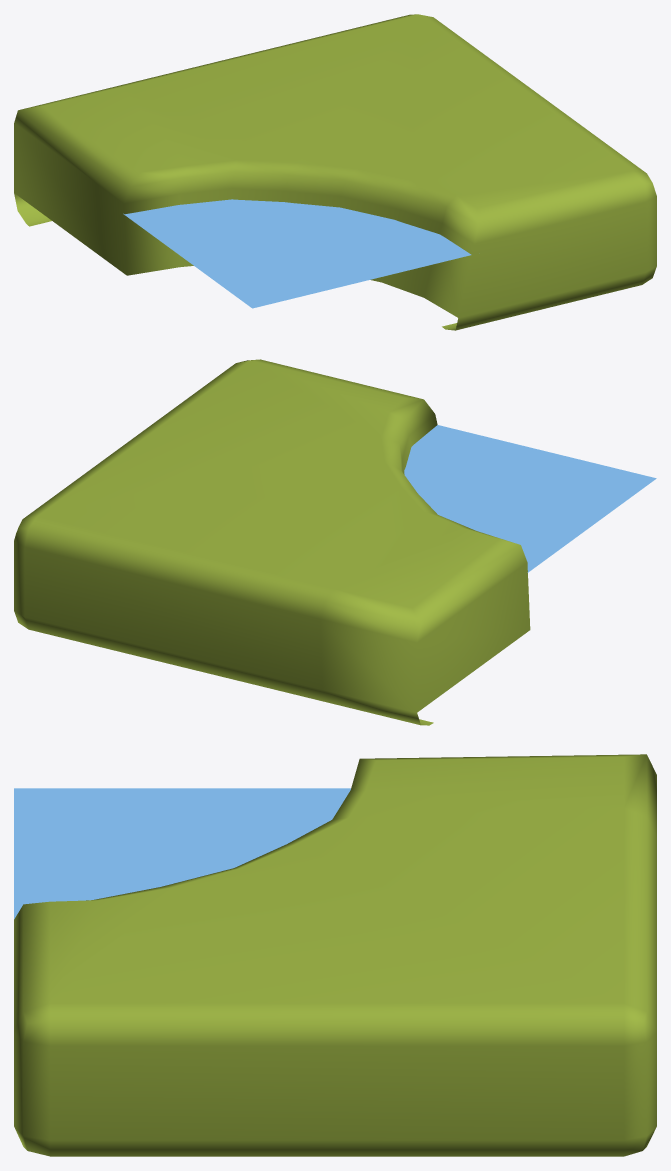
The model's file is Bloco_Rio_Curva.fbx.
The picture shows the model from 3 angles, top to bottom: view 1: azimuth 30°, elevation 25°; view 2: azimuth 150°, elevation 25°; view 3: azimuth 270°, elevation 25°; orthographic projection. The views are drawn at different scales.
Parts seen in each view (by area): view 1: Bloco_Rio_Curva; view 2: Bloco_Rio_Curva; view 3: Bloco_Rio_Curva.
Boxes of the visible parts, x1,y1,x2,y2 form: Bloco_Rio_Curva: (14, 14, 656, 330); Bloco_Rio_Curva: (14, 359, 656, 725); Bloco_Rio_Curva: (14, 754, 656, 1156).
Size of the model in its own units: 240 by 62.72 by 240.
